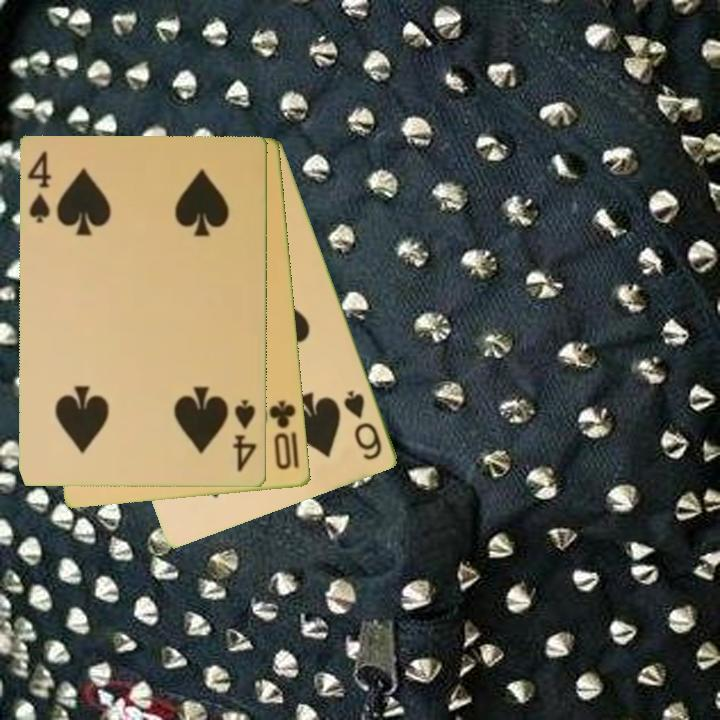10c: (266, 397, 299, 473)
4s: (230, 396, 260, 475), (25, 147, 55, 226)
6s: (340, 387, 386, 464)
